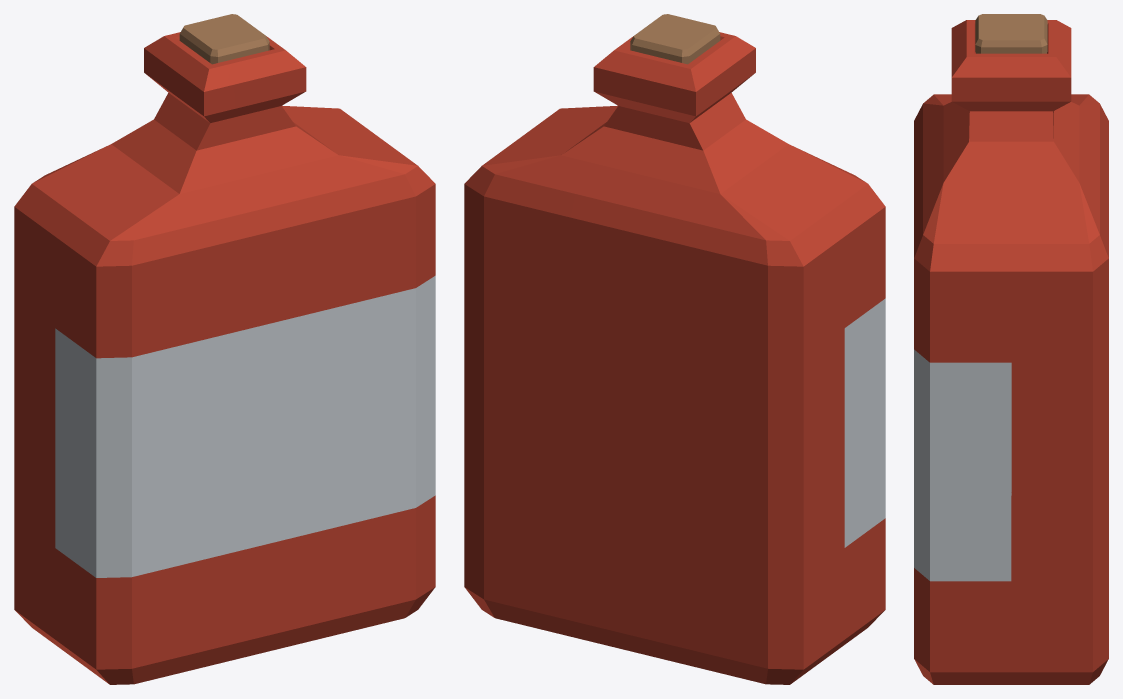
Rendered from Red_Potion_5(Label).fbx.
The picture shows the model from 3 angles, left to right: view 1: azimuth 30°, elevation 25°; view 2: azimuth 150°, elevation 25°; view 3: azimuth 270°, elevation 25°; orthographic projection.
Visible parts, largest first — view 1: Red_Potion_5(Label); view 2: Red_Potion_5(Label); view 3: Red_Potion_5(Label).
Boxes of the visible parts, x1,y1,x2,y2 form: Red_Potion_5(Label): (14, 14, 435, 684); Red_Potion_5(Label): (464, 14, 885, 684); Red_Potion_5(Label): (914, 14, 1108, 684).
Bounding box in the file's own units: 25.6 × 42.3 × 12.8.
